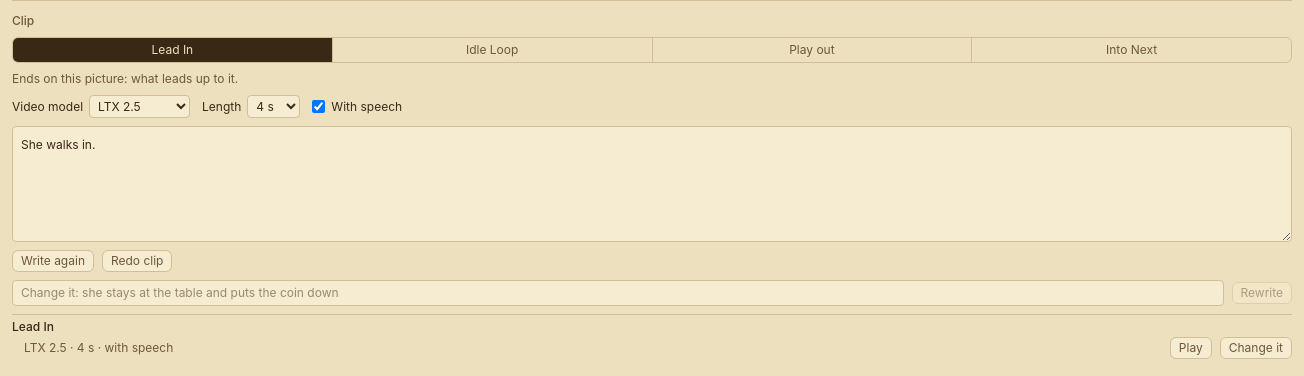
Test: FrameClips › shows the clip in the form with Change it, the focus on the box
The width and height of the screenshot is (1304, 376).
Click the radio button labelled "Idle Loop": click(492, 50) [332, 38, 652, 62]
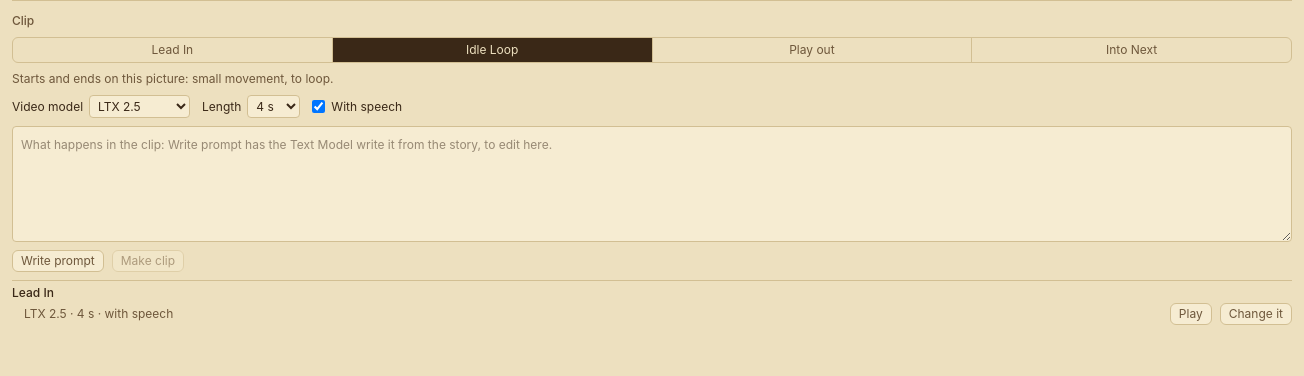
Click the button "Change it": click(1256, 314) [1220, 302, 1292, 324]
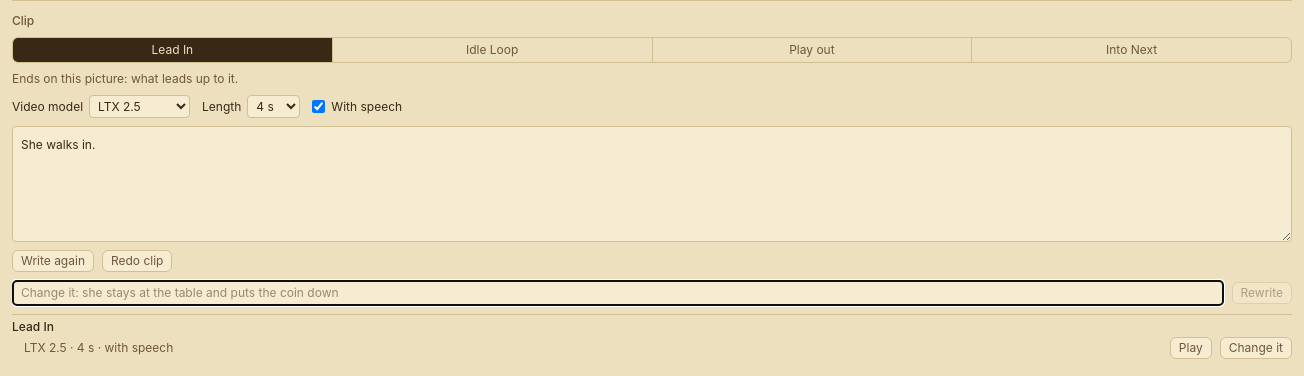
Check: the text box named "The clip's prompt" holds "She walks in.", box [12, 126, 1292, 242]
